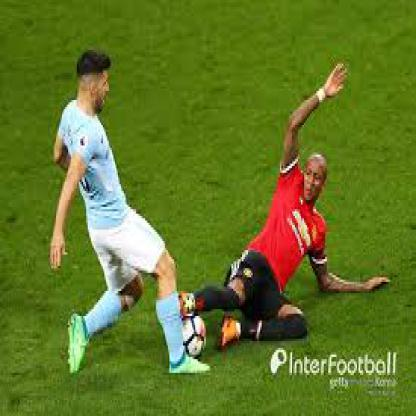Fall_Down: (174, 61, 393, 350)
